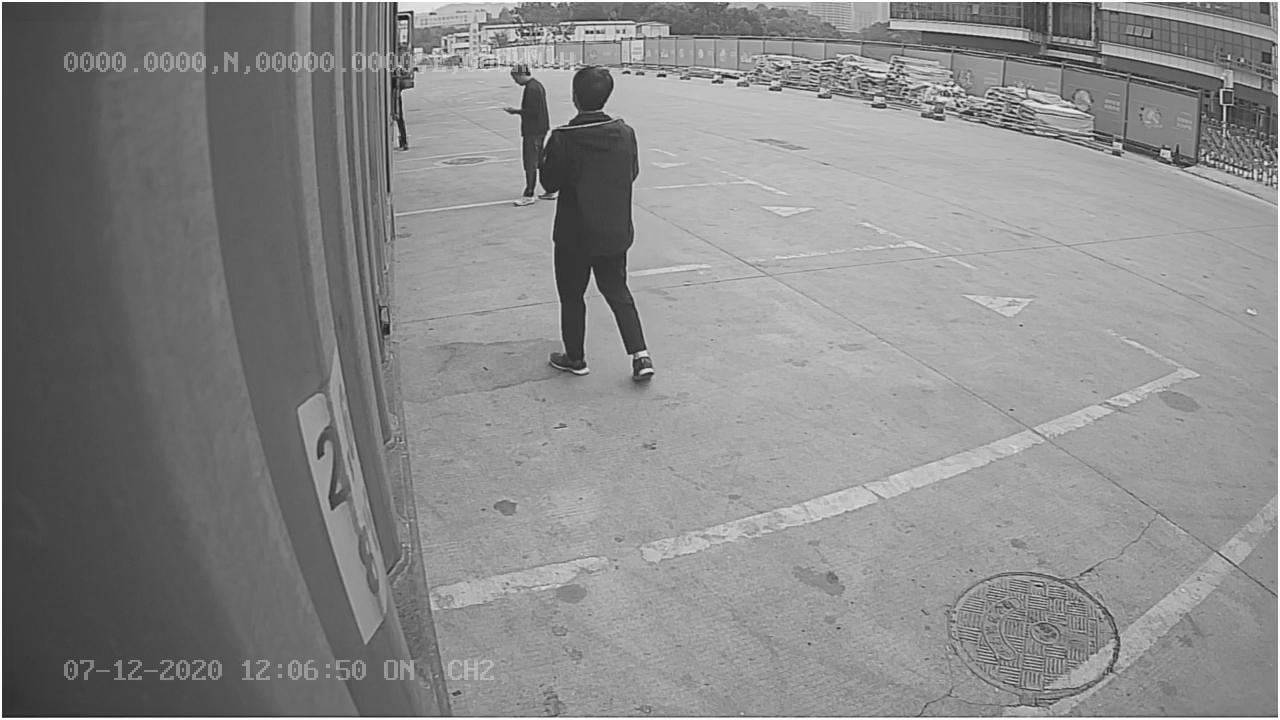person: (546, 62, 655, 381)
